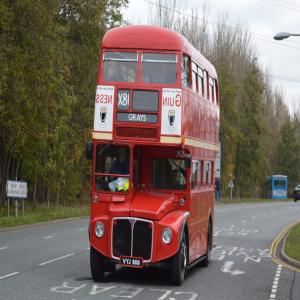Vehicle-registration-plate: (121, 257, 144, 270)
